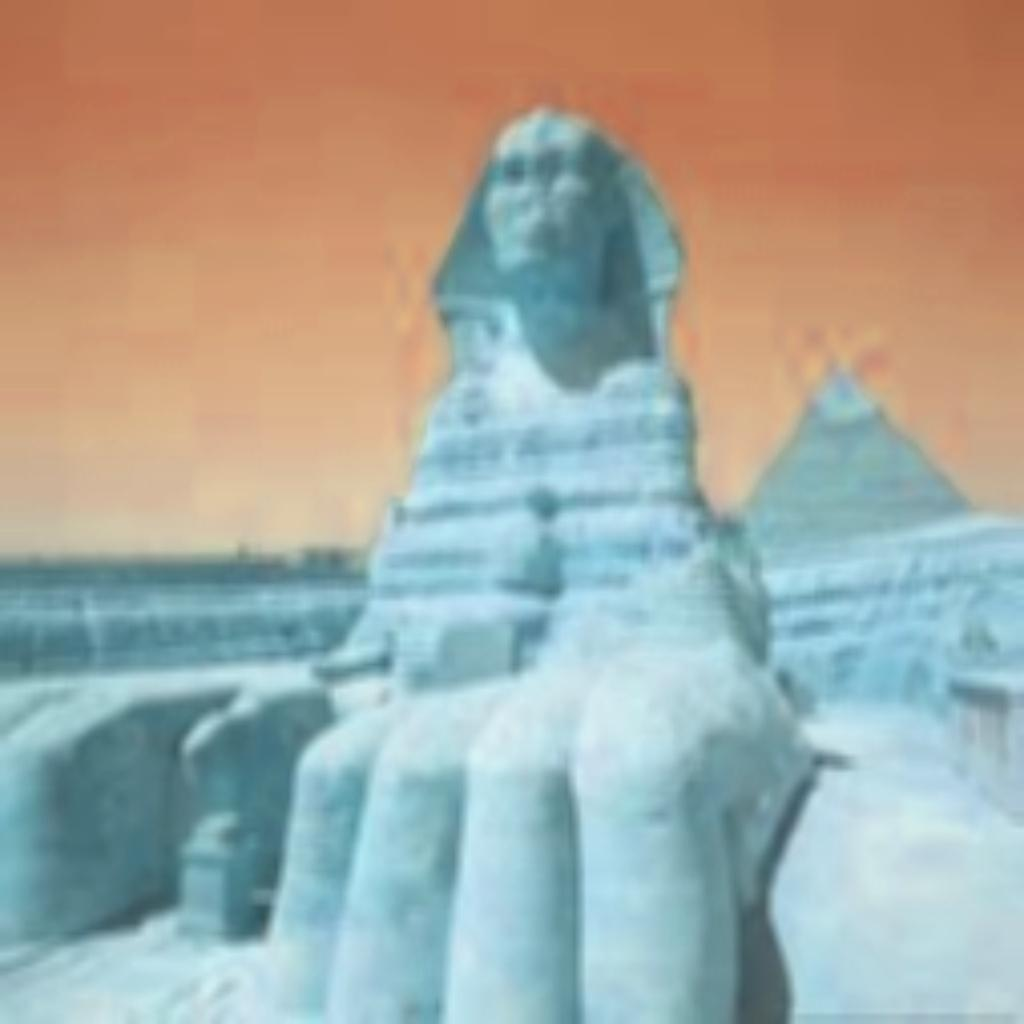Sphinx: (238, 98, 834, 1019)
